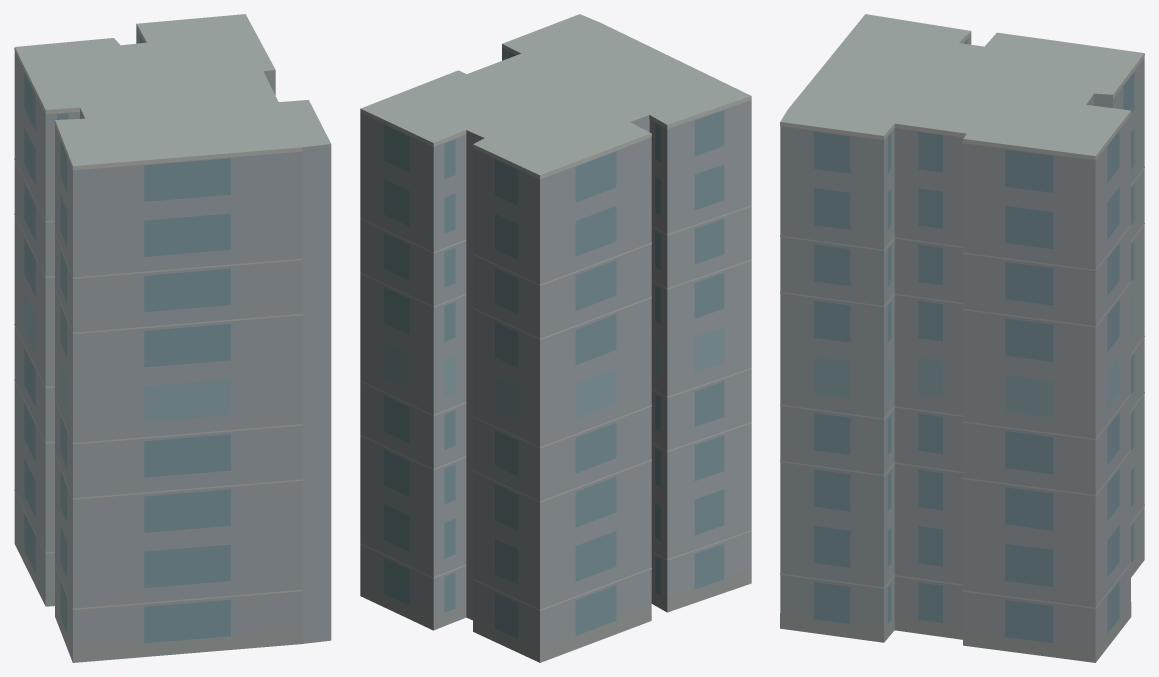
The model's file is survey-upis-32875026.glb.
3 renders of one model, left to right at view 1: azimuth 30°, elevation 25°; view 2: azimuth 150°, elevation 25°; view 3: azimuth 270°, elevation 25°, orthographic. The views are drawn at different scales.
Parts seen in each view (by area): view 1: survey-upis-32875026.tmp; view 2: survey-upis-32875026.tmp; view 3: survey-upis-32875026.tmp.
Part boxes in pixels (x1,y1,x2,y2): survey-upis-32875026.tmp: [14, 14, 331, 662]; survey-upis-32875026.tmp: [360, 14, 751, 662]; survey-upis-32875026.tmp: [780, 14, 1144, 662].
Bounding box in the file's own units: 17.48 × 29 × 18.92.
